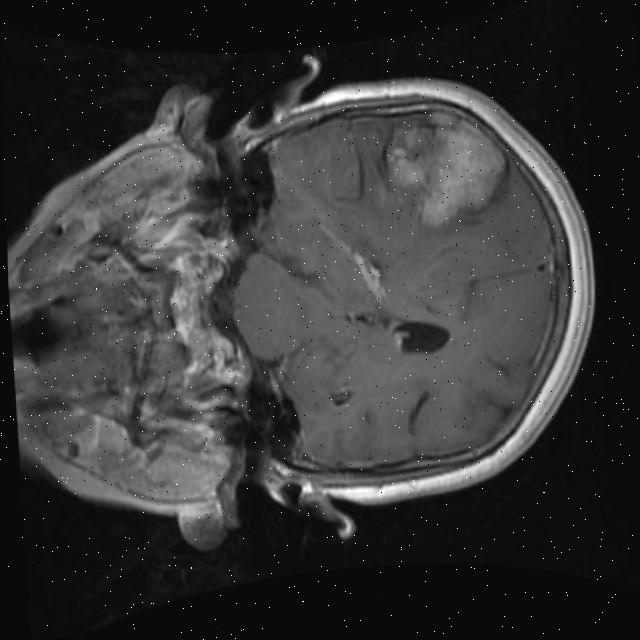Meningioma: (376, 99, 512, 235)
